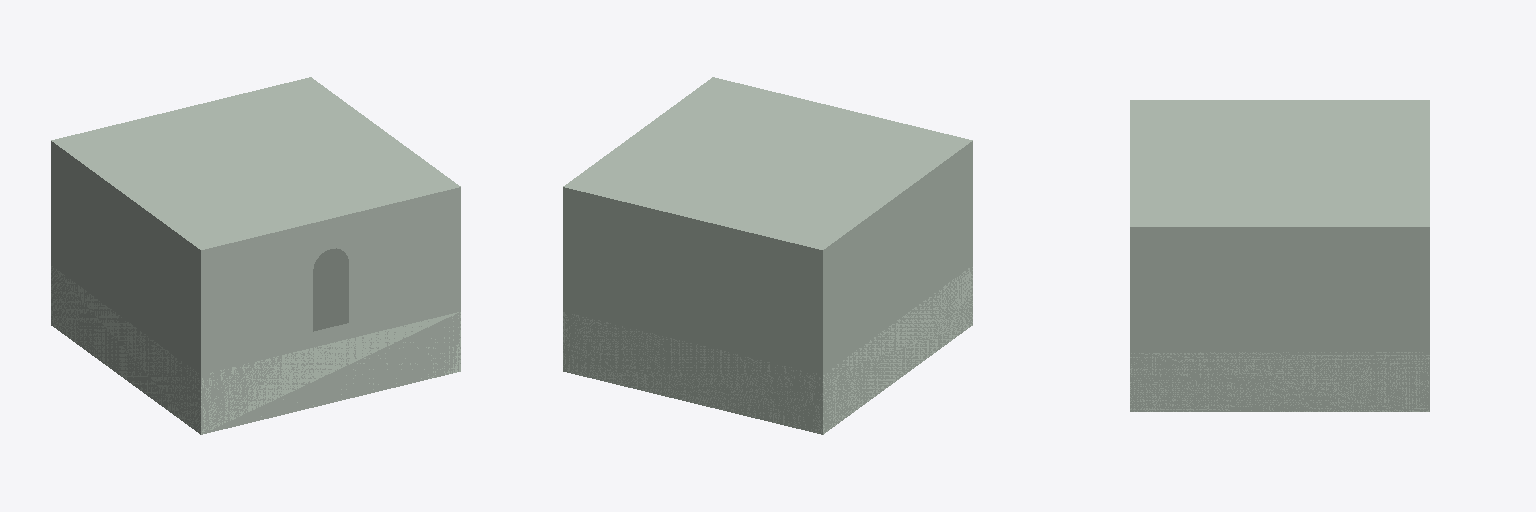
The model's file is tile_030.obj.
3 views of the same model, side by side, from view 1: azimuth 30°, elevation 25°; view 2: azimuth 150°, elevation 25°; view 3: azimuth 270°, elevation 25° (orthographic).
Visible parts, largest first — view 1: tile_030; view 2: tile_030; view 3: tile_030.
Part boxes in pixels (x1,y1,x2,y2): tile_030: (51, 77, 460, 434); tile_030: (563, 77, 972, 434); tile_030: (1130, 100, 1429, 411).
Bounding box in the file's own units: 0.5901 × 0.4 × 0.5901.